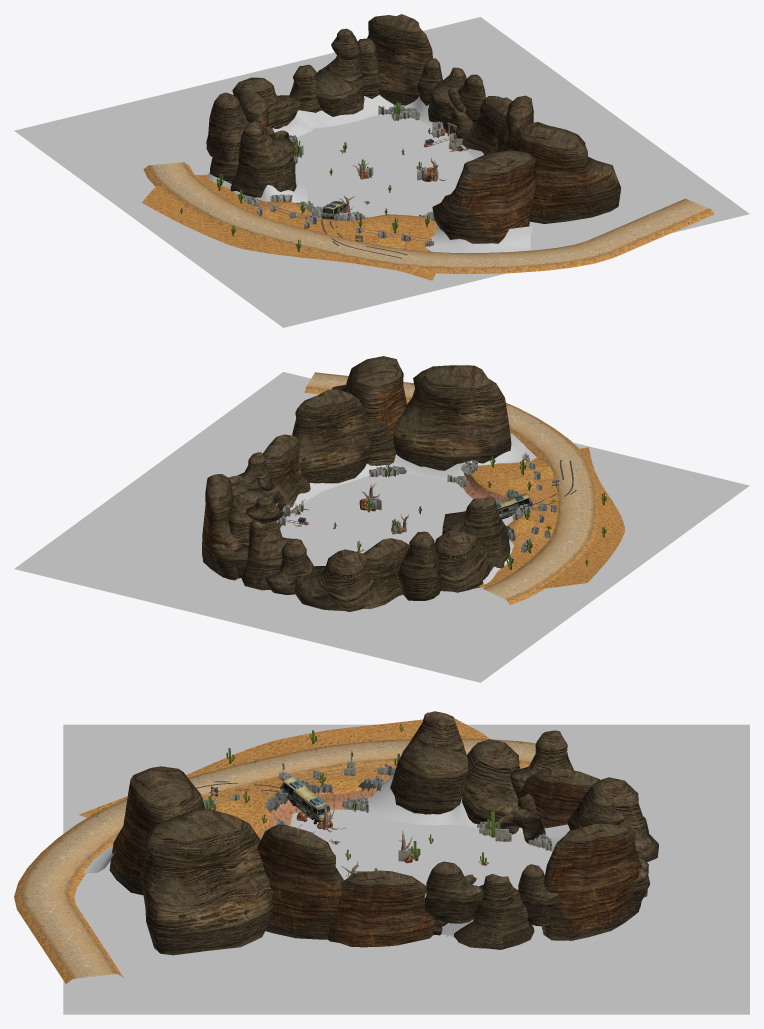
The model's file is Map.FBX.
The picture shows the model from 3 angles, top to bottom: view 1: azimuth 30°, elevation 25°; view 2: azimuth 150°, elevation 25°; view 3: azimuth 270°, elevation 25°; orthographic projection. The views are drawn at different scales.
Parts seen in each view (by area): view 1: VisibleGround000, Road, VisibleGround001, Object005, Object004, Object011, Object020, Object013, Object025, Object026, Object007, Object016 (+13 smaller); view 2: VisibleGround000, Object004, Road, VisibleGround001, Object006, Object005, Object016, Object019, Object020, Object011, Object018, Object013 (+8 smaller); view 3: VisibleGround000, Object005, Road, Object011, Object006, VisibleGround001, Object007, Object020, Object004, Object019, Object009, Object017 (+11 smaller).
Boxes of the visible parts, x1,y1,x2,y2 form: VisibleGround000: (14,17,749,327); Road: (143,162,714,273); VisibleGround001: (142,174,437,280); Object005: (504,122,621,223); Object004: (432,150,537,243); Object011: (367,14,432,105); Object020: (230,121,296,197); Object013: (313,56,364,116); Object025: (272,95,443,137); Object026: (426,144,532,252); Object007: (462,96,512,154); Object016: (232,77,300,128); VisibleGround000: (14,372,749,682); Object004: (393,365,511,470); Road: (305,372,598,604); VisibleGround001: (471,447,624,588); Object006: (292,389,371,483); Object005: (332,356,406,465); Object016: (294,549,374,611); Object019: (435,530,491,592); Object020: (442,496,510,569); Object011: (202,474,238,580); Object018: (397,531,442,600); Object013: (241,520,304,590); VisibleGround000: (63,724,749,1014); Object005: (140,808,273,955); Road: (14,738,535,983); Object011: (541,823,641,940); Object006: (257,824,343,939); VisibleGround001: (79,718,489,833); Object007: (327,870,434,947); Object020: (390,711,468,814); Object004: (109,766,205,895); Object019: (461,739,520,823); Object009: (454,874,534,949); Object017: (517,768,599,828).
Size of what is drawn, in the model's own units: 140 by 150 by 34.3.
